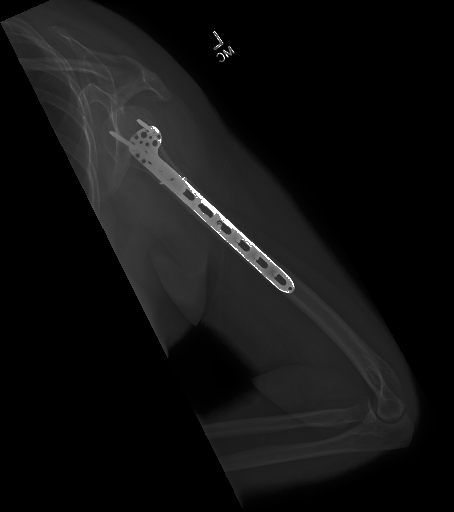implant: (108, 116, 295, 296)
